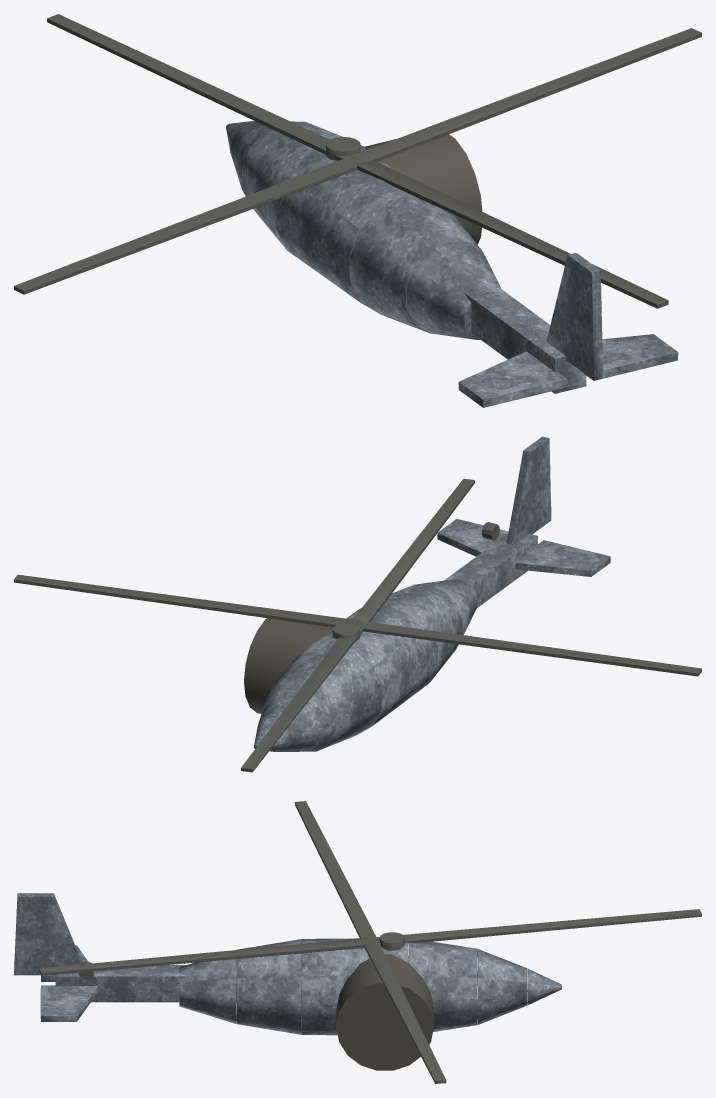
The model's file is aew_e3_uk_aewhelo_LOD1.glb.
3 renders of one model, top to bottom at view 1: azimuth 30°, elevation 25°; view 2: azimuth 150°, elevation 25°; view 3: azimuth 270°, elevation 25°, orthographic. The views are drawn at different scales.
Visible parts, largest first — view 1: aew_e3_uk_aewhelo_LOD1_body, aew_e3_uk_aewhelo_LOD1_gun, aew_e3_uk_aewhelo_LOD1_deck; view 2: aew_e3_uk_aewhelo_LOD1_body, aew_e3_uk_aewhelo_LOD1_gun, aew_e3_uk_aewhelo_LOD1_deck; view 3: aew_e3_uk_aewhelo_LOD1_body, aew_e3_uk_aewhelo_LOD1_gun, aew_e3_uk_aewhelo_LOD1_deck.
Boxes of the visible parts, <box> form: aew_e3_uk_aewhelo_LOD1_body: <box>226,121,678,407</box>; aew_e3_uk_aewhelo_LOD1_gun: <box>14,14,701,308</box>; aew_e3_uk_aewhelo_LOD1_deck: <box>364,134,482,244</box>; aew_e3_uk_aewhelo_LOD1_body: <box>254,436,610,751</box>; aew_e3_uk_aewhelo_LOD1_gun: <box>14,478,701,772</box>; aew_e3_uk_aewhelo_LOD1_deck: <box>244,618,332,713</box>; aew_e3_uk_aewhelo_LOD1_body: <box>14,893,561,1035</box>; aew_e3_uk_aewhelo_LOD1_gun: <box>39,801,701,1083</box>; aew_e3_uk_aewhelo_LOD1_deck: <box>336,954,433,1070</box>.
Bounding box in the file's own units: 18.25 × 4.23 × 18.94.
3 materials, 1 textured.
